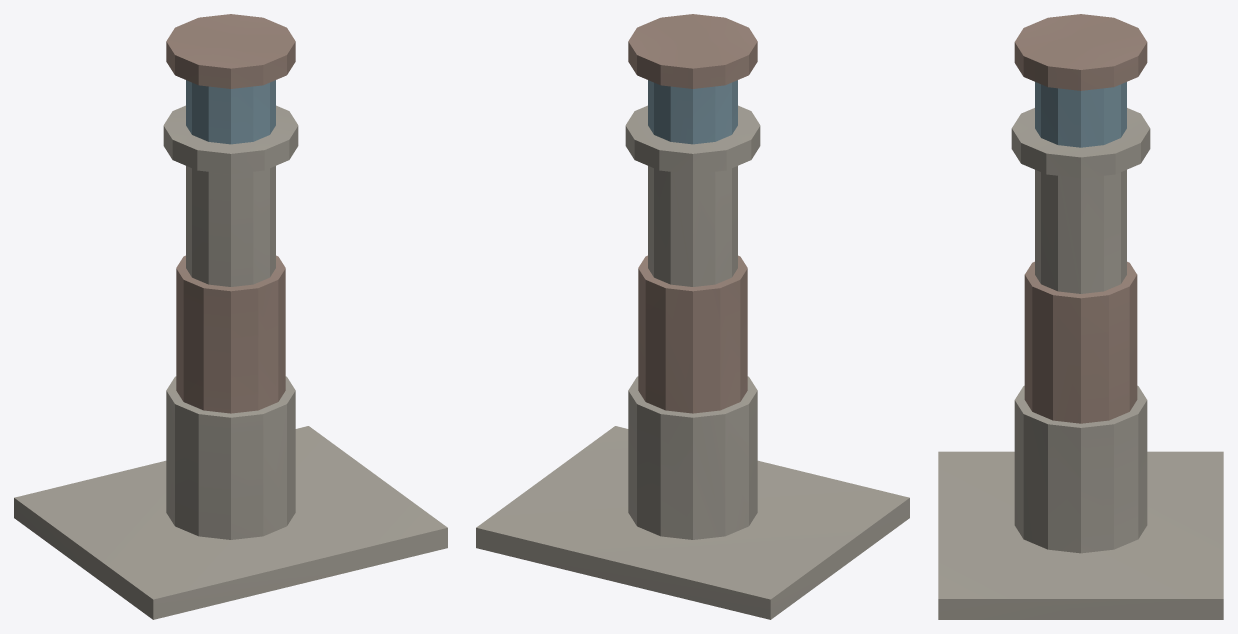
File: lighthouse-00.glb
The picture shows the model from 3 angles, left to right: view 1: azimuth 30°, elevation 25°; view 2: azimuth 150°, elevation 25°; view 3: azimuth 270°, elevation 25°; orthographic projection. The views are drawn at different scales.
Parts seen in each view (by area): view 1: world; view 2: world; view 3: world.
Part boxes in pixels (x1=…): world: x1=14, y1=14, x2=447, y2=619; world: x1=476, y1=14, x2=909, y2=619; world: x1=938, y1=14, x2=1223, y2=619.
Bounding box in the file's own units: 1.21 × 1.93 × 0.99.
